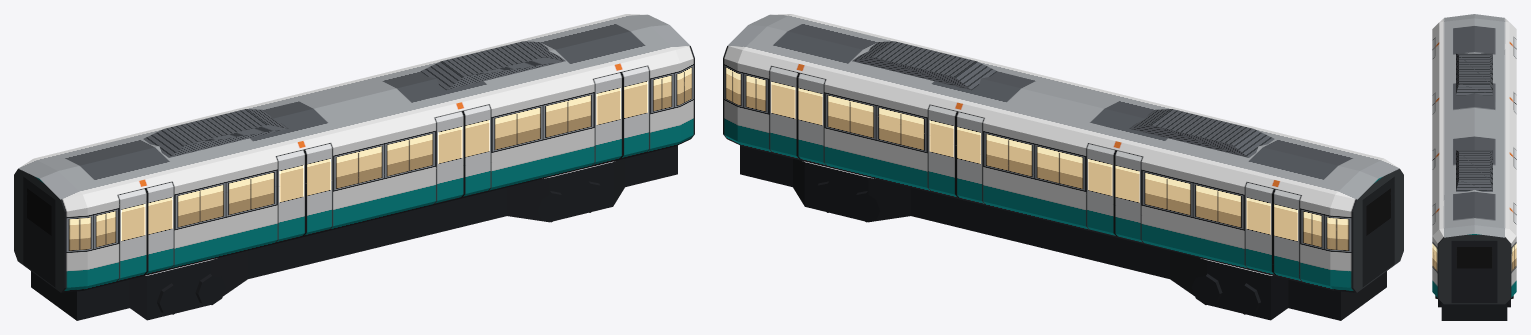
File: pneumatic_generic__neutral.glb
3 views of the same model, side by side, from view 1: azimuth 30°, elevation 25°; view 2: azimuth 150°, elevation 25°; view 3: azimuth 270°, elevation 25° (orthographic). The views are drawn at different scales.
Visible parts, largest first — view 1: pneumatic_generic__neutral; view 2: pneumatic_generic__neutral; view 3: pneumatic_generic__neutral.
Boxes of the visible parts, x1,y1,x2,y2 form: pneumatic_generic__neutral: [14, 14, 694, 320]; pneumatic_generic__neutral: [723, 14, 1403, 320]; pneumatic_generic__neutral: [1432, 14, 1516, 320].
Bounding box in the file's own units: 15.06 × 3.47 × 2.44.
1 material, 1 textured.
